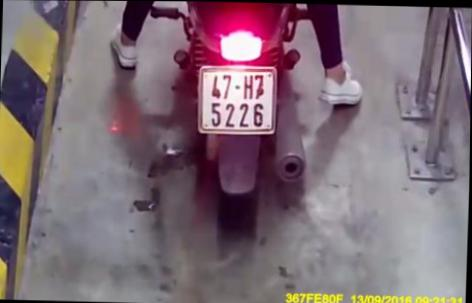LP: (193, 63, 282, 137)
